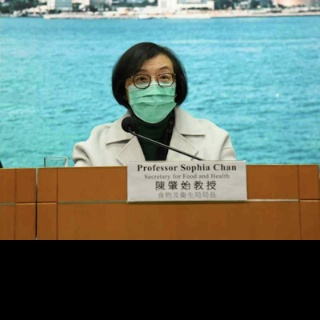with_mask: (124, 64, 177, 124)
